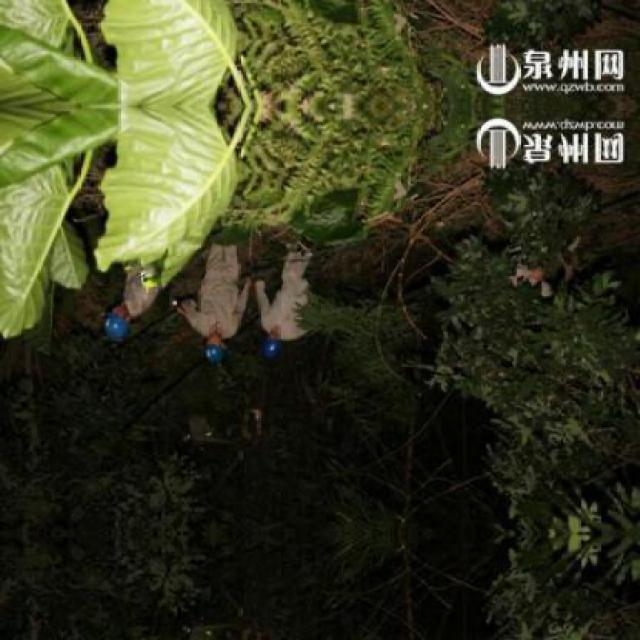con casco: (89, 273, 163, 364), (244, 318, 316, 368), (195, 299, 239, 372)
